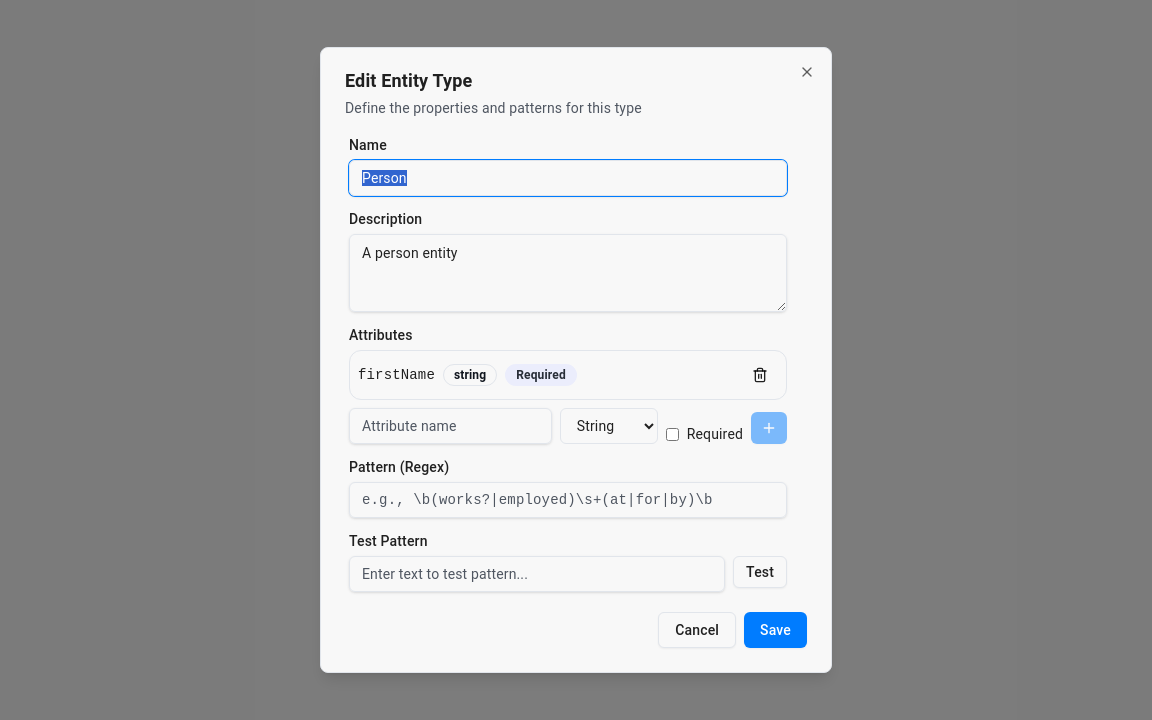
Test: TypeEditorDialog › removes attributes
Click the button without text in the row of "string" at (760, 375), box [742,359,778,391]
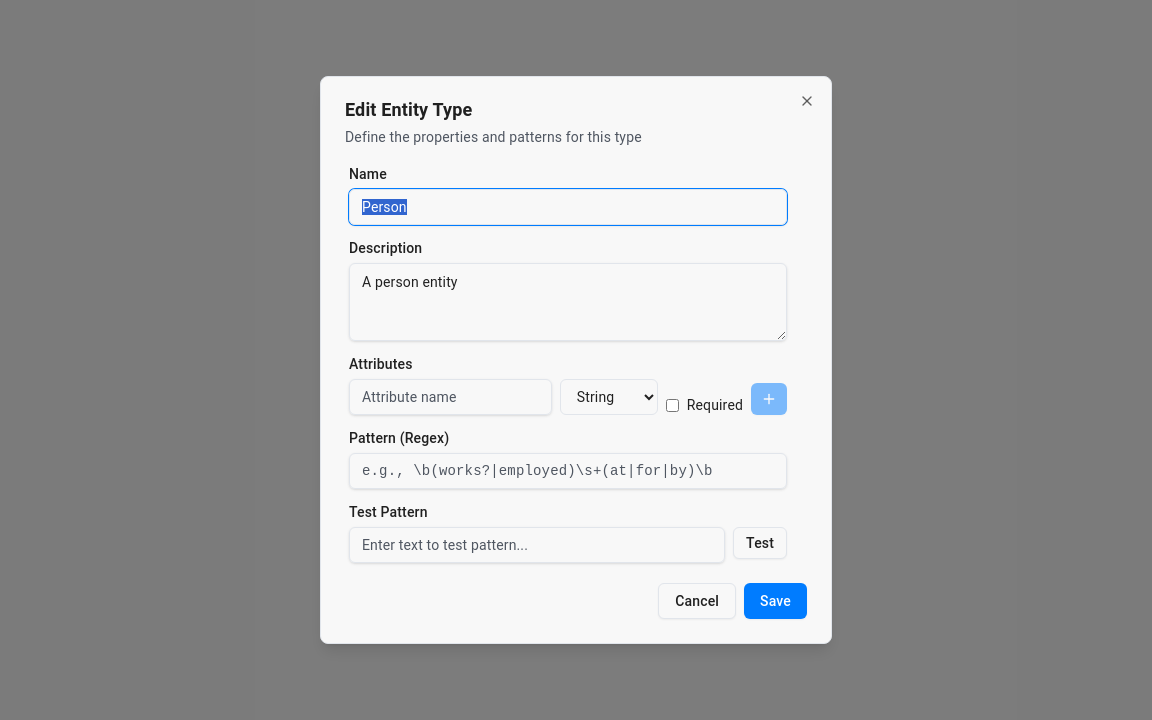
expect the text "firstName" is gone: met
